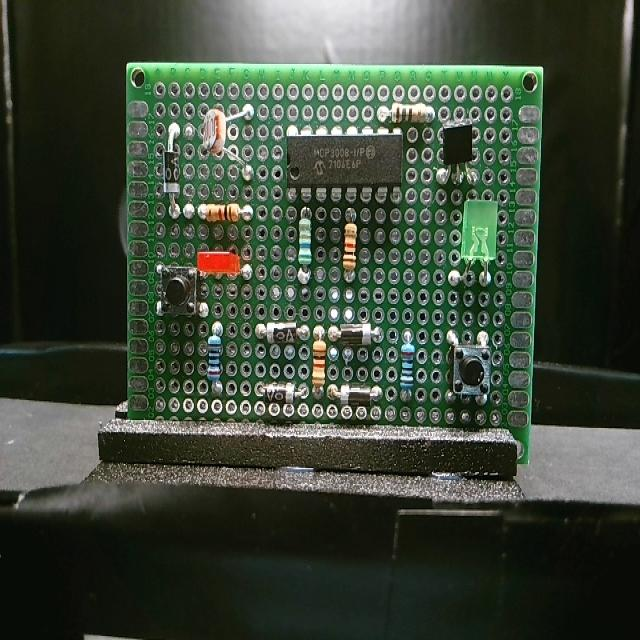IC: (285, 127, 404, 203)
cds: (202, 107, 235, 161)
diode: (160, 144, 182, 200), (334, 322, 379, 347), (336, 385, 382, 408), (261, 321, 304, 345), (261, 380, 301, 405)
led: (460, 196, 500, 269), (197, 250, 241, 278)
resistor: (386, 99, 434, 126), (294, 216, 314, 276), (311, 336, 327, 397), (206, 332, 224, 386), (400, 340, 417, 396), (203, 202, 246, 224), (342, 220, 359, 274)
switch: (448, 336, 492, 401), (161, 263, 198, 318)
transistor: (440, 118, 474, 177)
